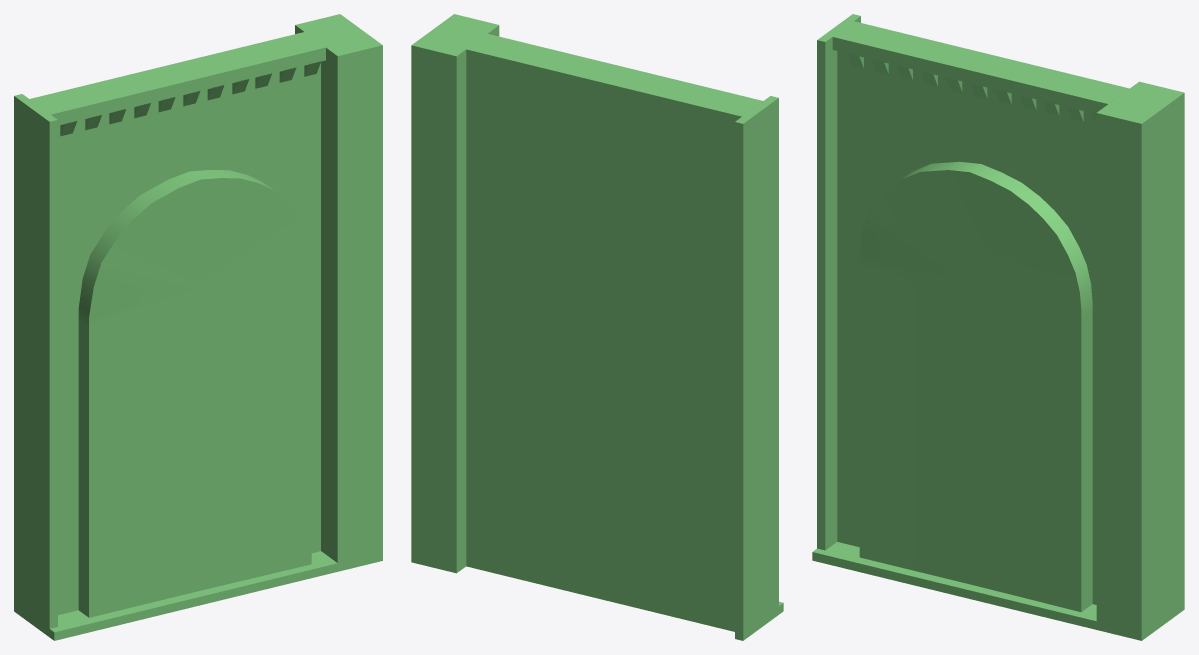
Rendered from Bld3_Wall_Mid_C.fbx.
3 views of the same model, side by side, from view 1: azimuth 30°, elevation 25°; view 2: azimuth 150°, elevation 25°; view 3: azimuth 330°, elevation 25° (orthographic).
Parts seen in each view (by area): view 1: Bld3_Wall_Mid_C; view 2: Bld3_Wall_Mid_C; view 3: Bld3_Wall_Mid_C.
Boxes of the visible parts, left/top/right/bottom form: Bld3_Wall_Mid_C: left=14, top=14, right=382, bottom=640; Bld3_Wall_Mid_C: left=411, top=14, right=783, bottom=640; Bld3_Wall_Mid_C: left=812, top=14, right=1184, bottom=640.
Size of the model in its own units: 600 by 900 by 135.
